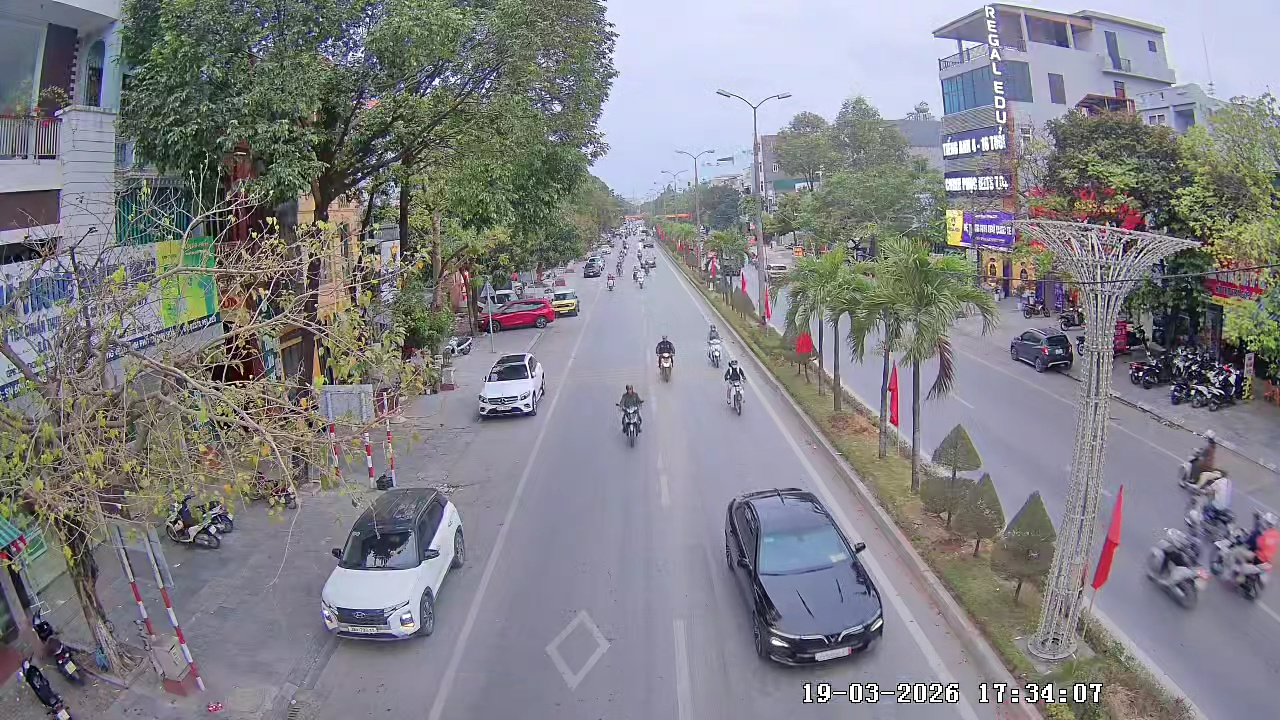car: (721, 487, 886, 666), (320, 483, 468, 643), (476, 351, 547, 418), (1009, 326, 1075, 373), (491, 291, 556, 332), (550, 287, 581, 318)
motorbike: (1224, 517, 1272, 601), (1176, 434, 1230, 491), (614, 382, 646, 449), (721, 357, 748, 416), (654, 334, 676, 383), (705, 328, 721, 370), (605, 270, 618, 292)
